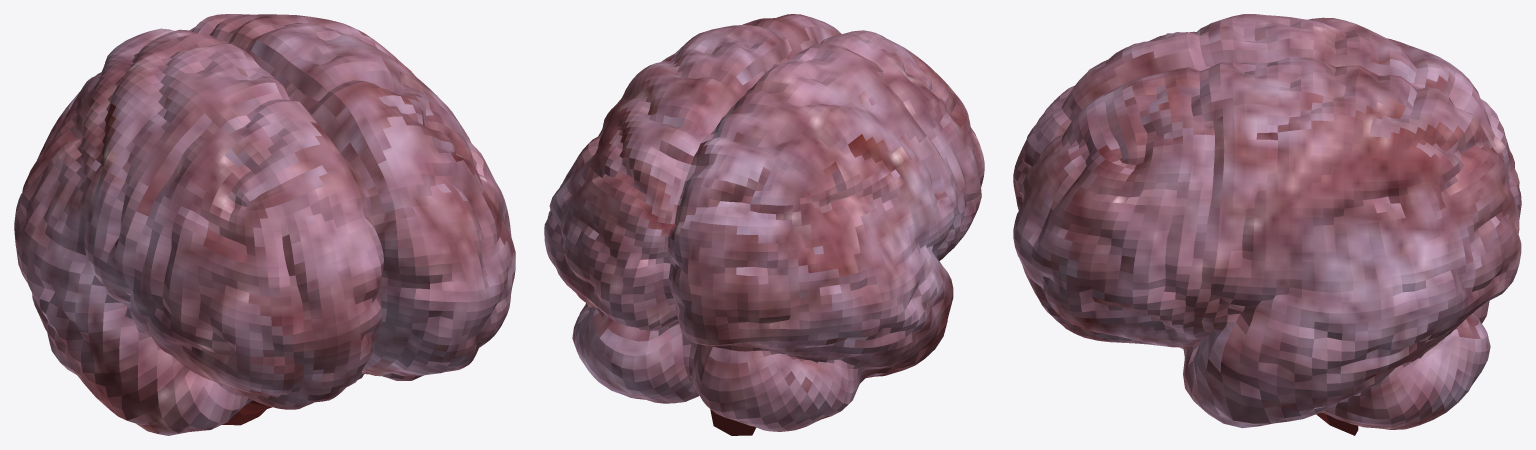
Rendered from Cerebro.fbx.
The picture shows the model from 3 angles, left to right: view 1: azimuth 30°, elevation 25°; view 2: azimuth 150°, elevation 25°; view 3: azimuth 270°, elevation 25°; orthographic projection. The views are drawn at different scales.
Visible parts, largest first — view 1: Brain_OBJ; view 2: Brain_OBJ; view 3: Brain_OBJ.
Part boxes in pixels (left/top/right/bottom): Brain_OBJ: left=14, top=14, right=515, bottom=435; Brain_OBJ: left=544, top=14, right=984, bottom=435; Brain_OBJ: left=1013, top=14, right=1521, bottom=435.
Size of the model in its own units: 53.64 by 62.95 by 52.55.
1 material, 1 textured.
